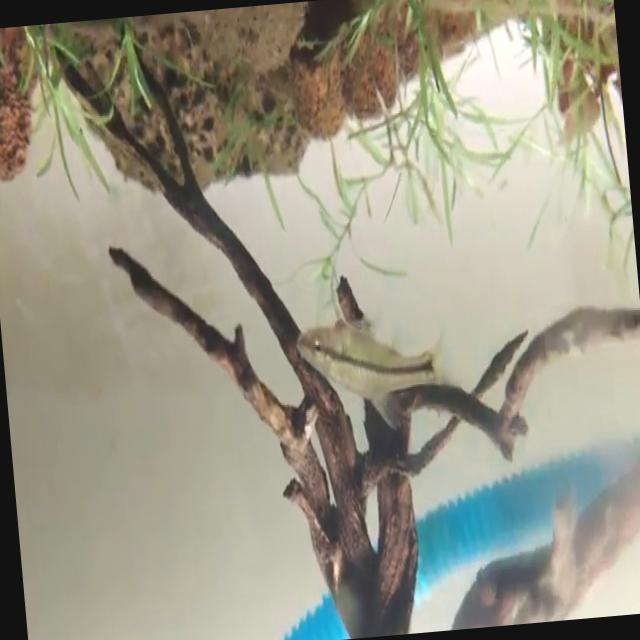Cakil Baligi: (292, 286, 458, 429)
